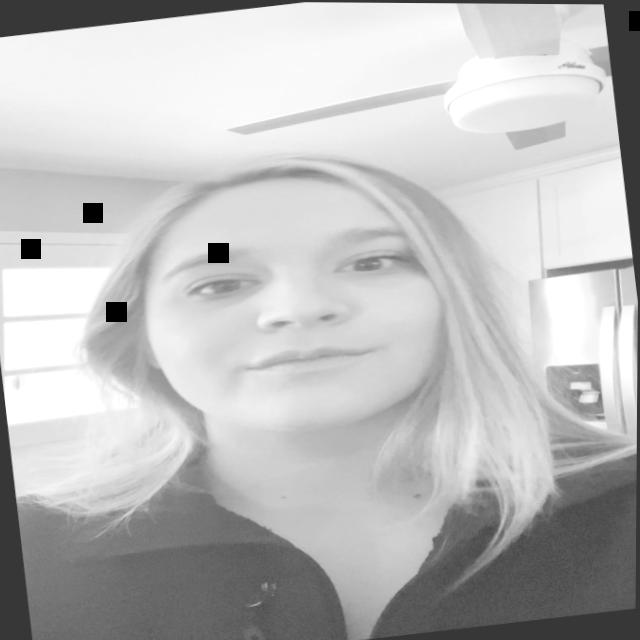NO-Mask: (103, 147, 516, 493)
